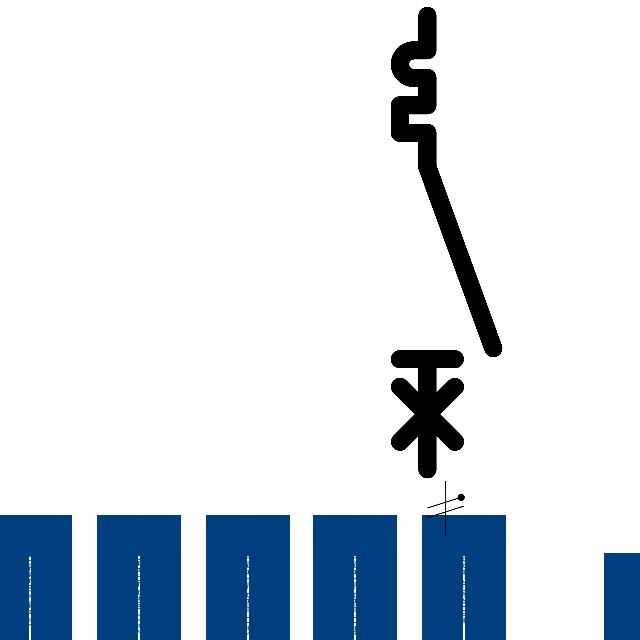interruptor_termomagnetico: (388, 4, 504, 481)
